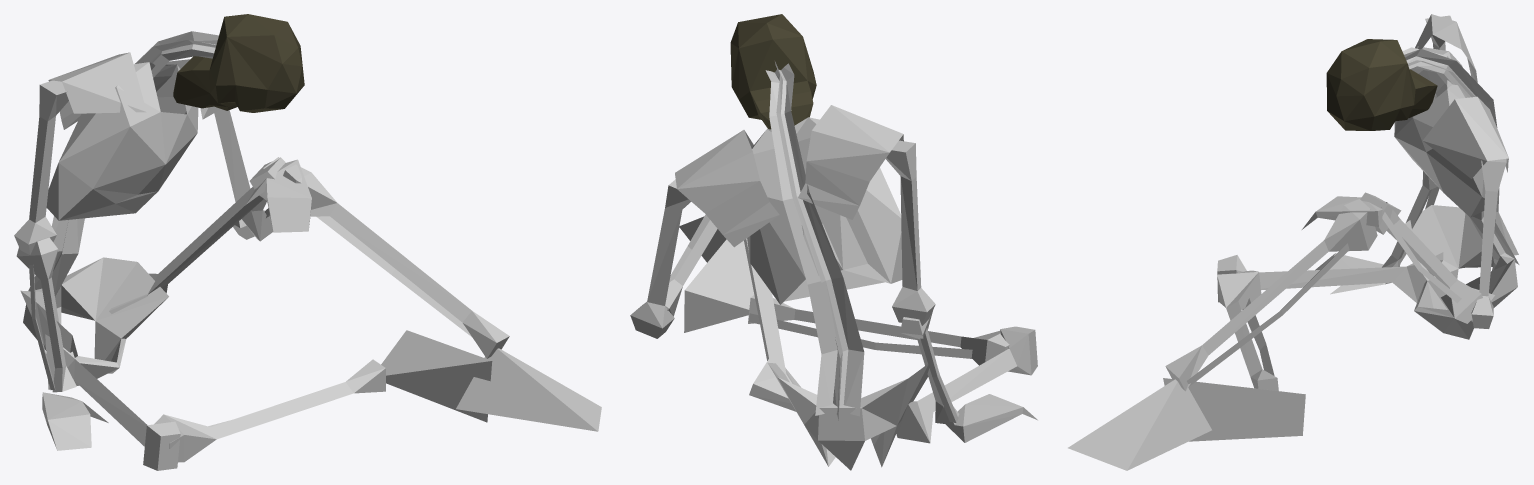
File: ORC_SKELETON_V1.OBJ
The picture shows the model from 3 angles, left to right: view 1: azimuth 30°, elevation 25°; view 2: azimuth 150°, elevation 25°; view 3: azimuth 270°, elevation 25°; orthographic projection. The views are drawn at different scales.
Visible parts, largest first — view 1: ORC_SKELETON_V1; view 2: ORC_SKELETON_V1; view 3: ORC_SKELETON_V1.
Part boxes in pixels (bbox=[...]): ORC_SKELETON_V1: bbox=[14, 14, 601, 470]; ORC_SKELETON_V1: bbox=[630, 14, 1037, 470]; ORC_SKELETON_V1: bbox=[1068, 14, 1519, 470].
Bounding box in the file's own units: 0.9305 × 0.7345 × 0.8663.
